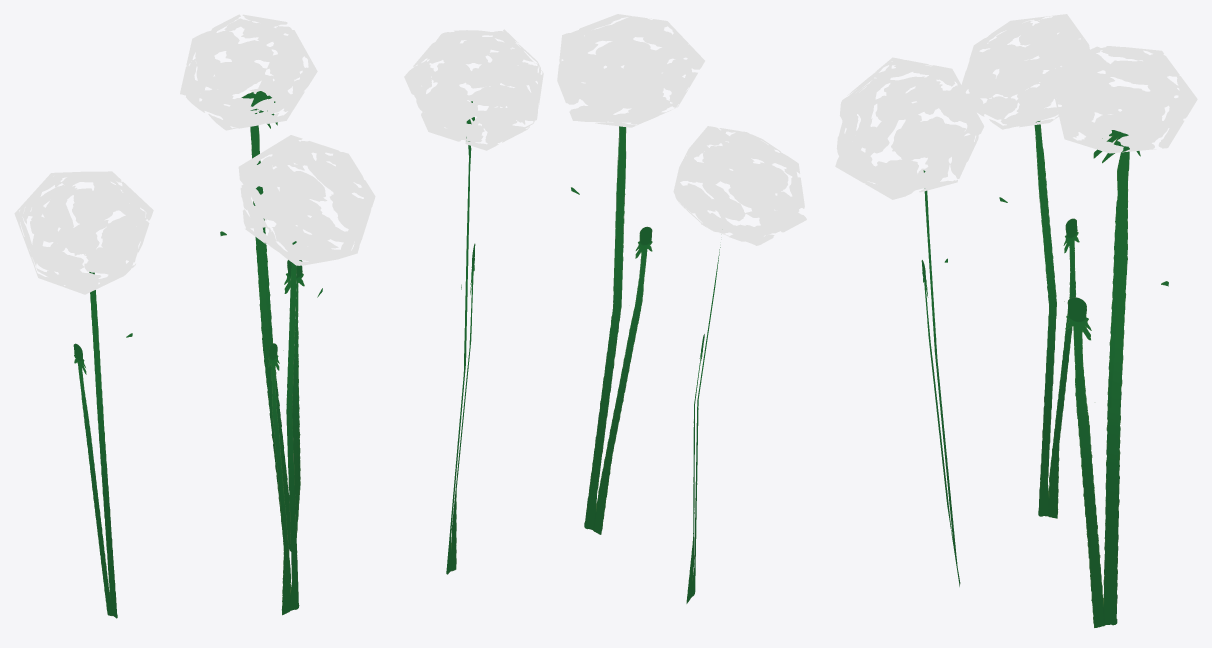
The model's file is PT_Dandelion_03.fbx.
3 views of the same model, side by side, from view 1: azimuth 30°, elevation 25°; view 2: azimuth 150°, elevation 25°; view 3: azimuth 270°, elevation 25° (orthographic). The views are drawn at different scales.
Visible parts, largest first — view 1: PT_Dandelion_03_LOD0; view 2: PT_Dandelion_03_LOD0; view 3: PT_Dandelion_03_LOD0.
Part boxes in pixels (<box>): PT_Dandelion_03_LOD0: <box>14,14,375,618</box>; PT_Dandelion_03_LOD0: <box>404,14,806,603</box>; PT_Dandelion_03_LOD0: <box>835,14,1197,627</box>.
Size of what is drawn, in the model's own units: 30.32 by 48.35 by 28.17.
